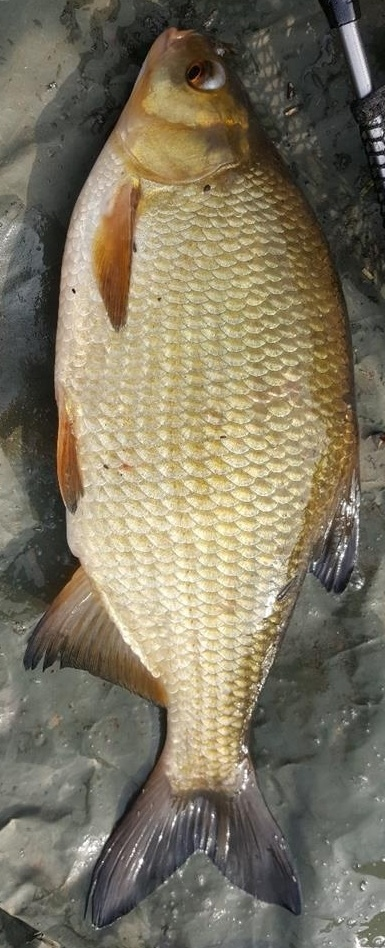Rutilus rutilus: (20, 20, 365, 928)
